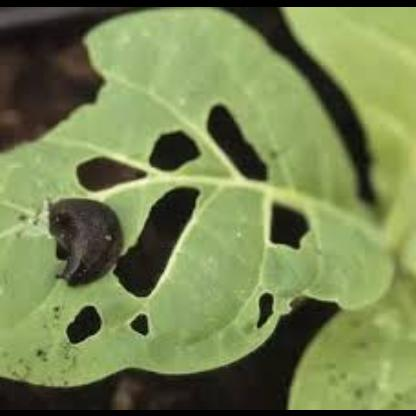agujero: (112, 184, 206, 308), (203, 95, 285, 188), (71, 146, 142, 192), (142, 124, 204, 174), (257, 198, 317, 244), (68, 300, 108, 340), (255, 284, 275, 332), (124, 310, 152, 336)
